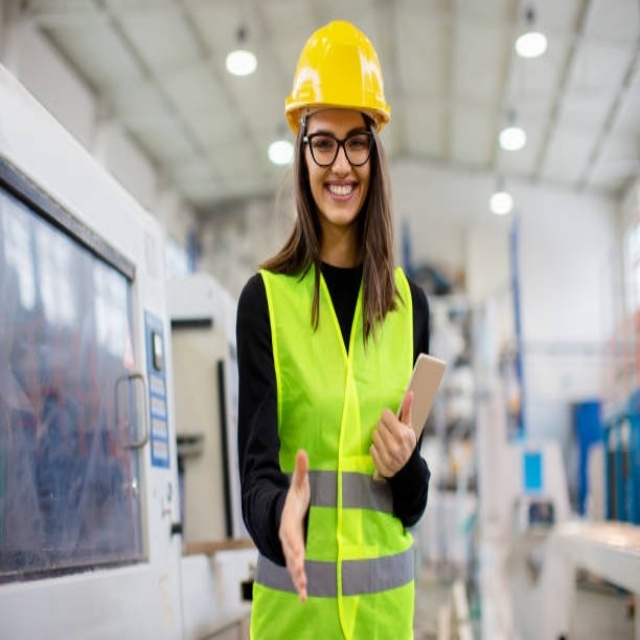Gafas: (303, 119, 373, 173)
Sin_guantes: (277, 448, 312, 604), (368, 387, 419, 481)
Sin_mascara: (320, 174, 362, 213)
